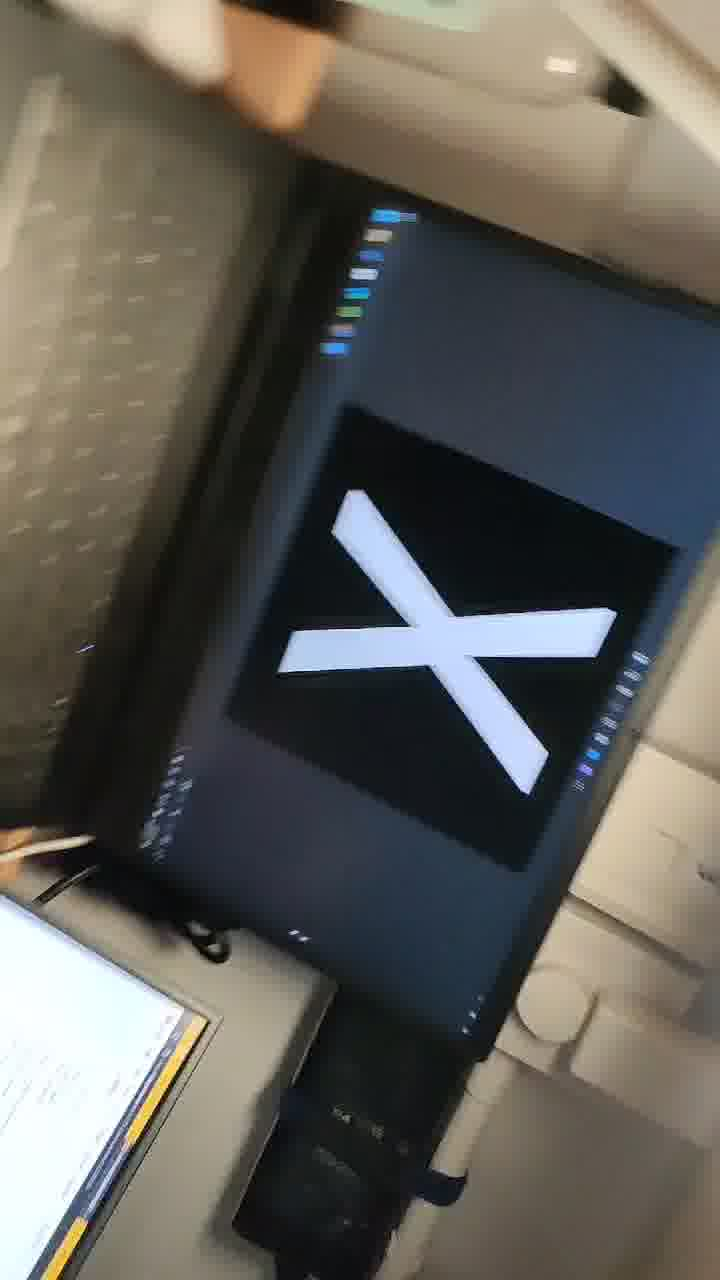X: (287, 481, 647, 852)
